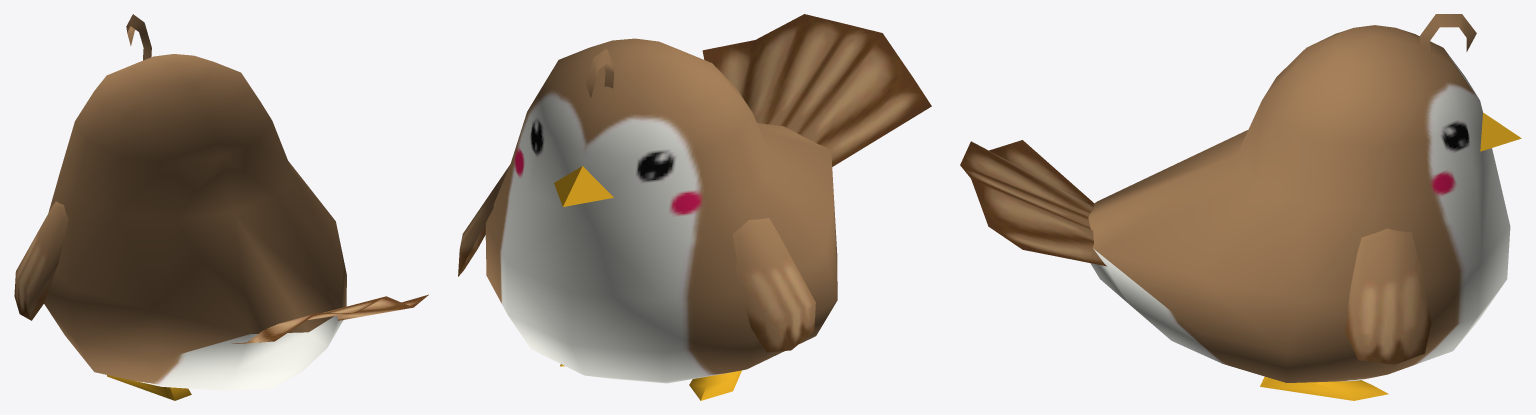
File: afzanei.ico.obj
3 renders of one model, left to right at view 1: azimuth 30°, elevation 25°; view 2: azimuth 150°, elevation 25°; view 3: azimuth 270°, elevation 25°, orthographic. The views are drawn at different scales.
Bounding box in the file's own units: 2.6 × 2.59 × 3.81.
1 material, 1 textured.
